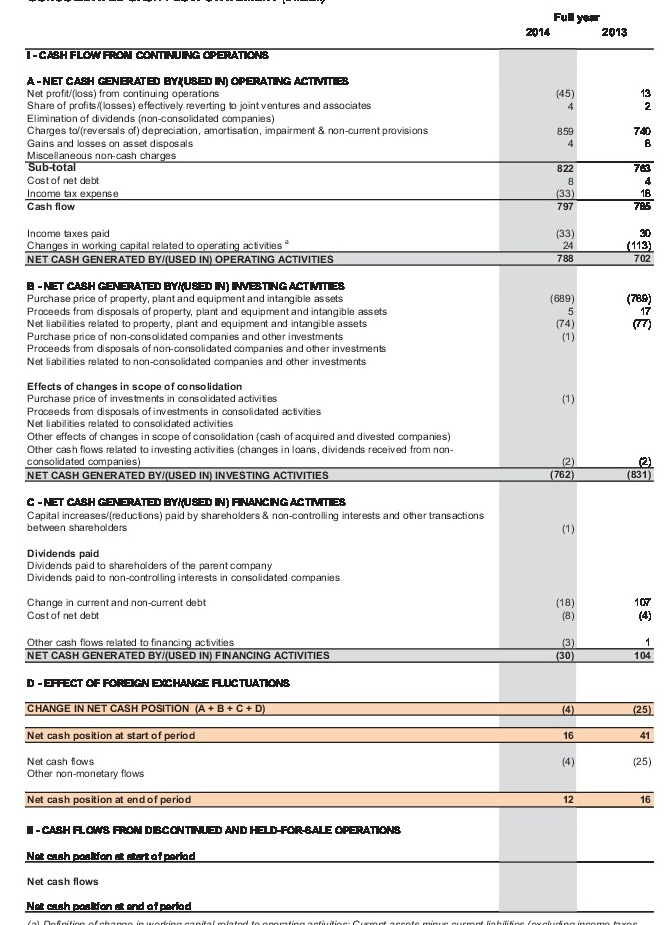table: (0, 0, 670, 925)
